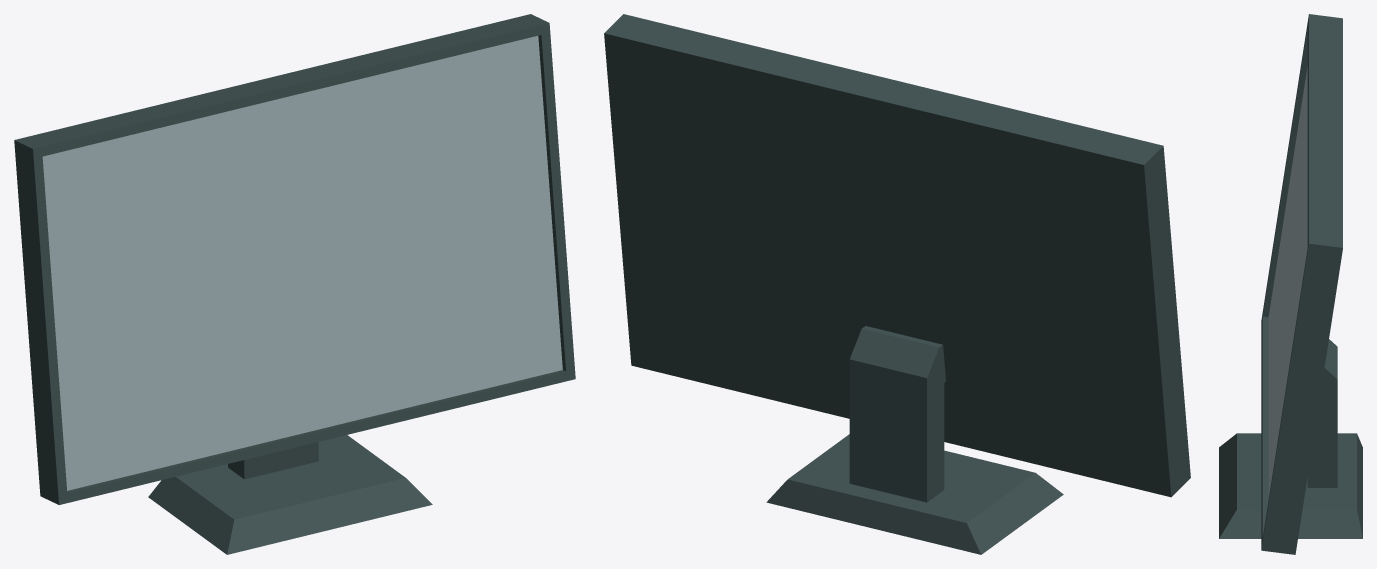
The model's file is furn_computerScreen.glb.
3 renders of one model, left to right at view 1: azimuth 30°, elevation 25°; view 2: azimuth 150°, elevation 25°; view 3: azimuth 270°, elevation 25°, orthographic. The views are drawn at different scales.
Visible parts, largest first — view 1: computerScreen(Clone); view 2: computerScreen(Clone); view 3: computerScreen(Clone).
Part boxes in pixels (bbox=[...]): computerScreen(Clone): bbox=[14, 14, 575, 554]; computerScreen(Clone): bbox=[604, 14, 1190, 554]; computerScreen(Clone): bbox=[1219, 14, 1362, 554].
Size of the model in its own units: 0.3927 by 0.2943 by 0.104.
